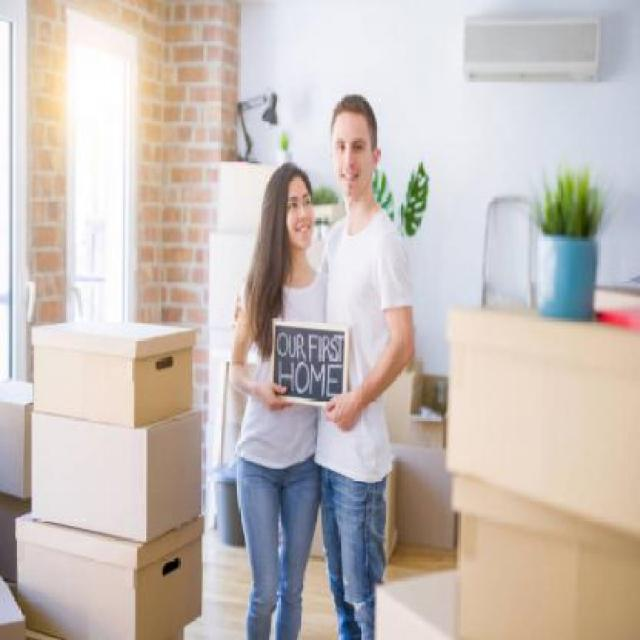box: (14, 504, 206, 640), (24, 410, 212, 542), (28, 310, 196, 424)
